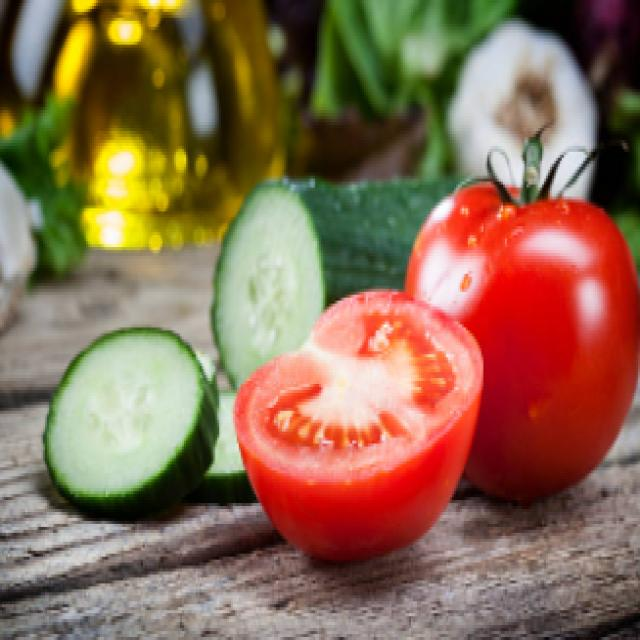Tomato: (403, 152, 640, 501), (248, 269, 488, 567)
